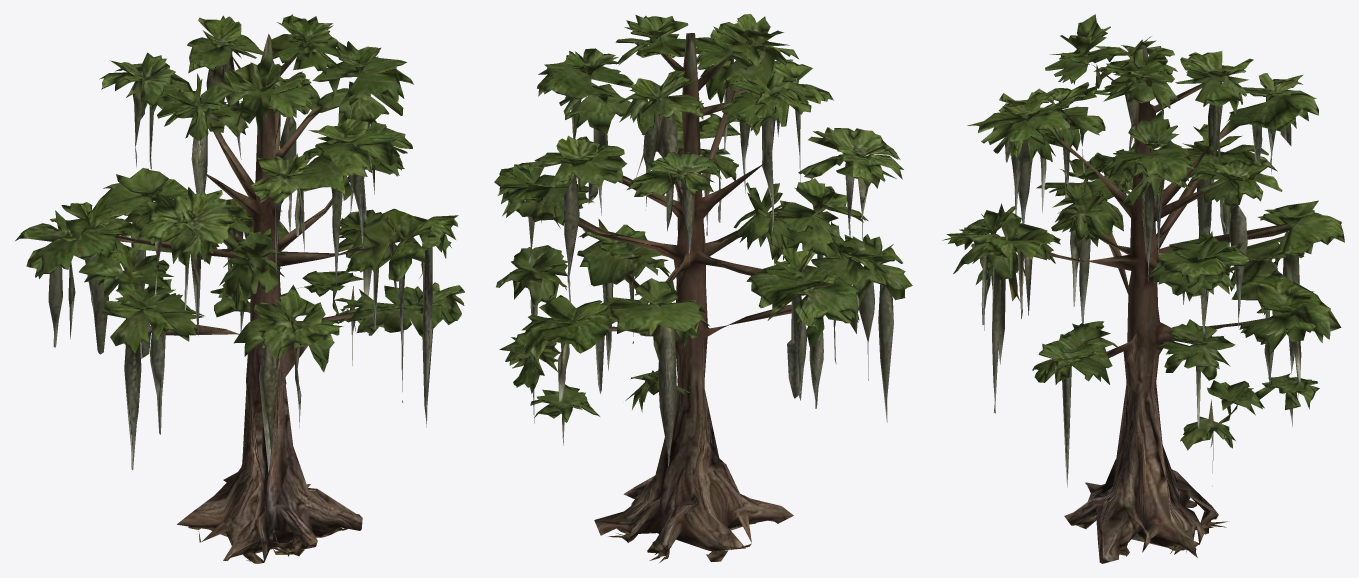
Rendered from cypress-detailed-low.glb.
3 views of the same model, side by side, from view 1: azimuth 30°, elevation 25°; view 2: azimuth 150°, elevation 25°; view 3: azimuth 270°, elevation 25° (orthographic). The views are drawn at different scales.
Visible parts, largest first — view 1: tripo_node_c86bb70b-8b89-4cf2-96fd-4b31365fefd6; view 2: tripo_node_c86bb70b-8b89-4cf2-96fd-4b31365fefd6; view 3: tripo_node_c86bb70b-8b89-4cf2-96fd-4b31365fefd6.
Part boxes in pixels (x1=…): tripo_node_c86bb70b-8b89-4cf2-96fd-4b31365fefd6: x1=15, y1=14, x2=464, y2=563; tripo_node_c86bb70b-8b89-4cf2-96fd-4b31365fefd6: x1=494, y1=14, x2=912, y2=562; tripo_node_c86bb70b-8b89-4cf2-96fd-4b31365fefd6: x1=942, y1=14, x2=1344, y2=563.
Size of the model in its own units: 0.7348 by 0.9667 by 0.7219.
Materials: 1 (1 with a texture image).
